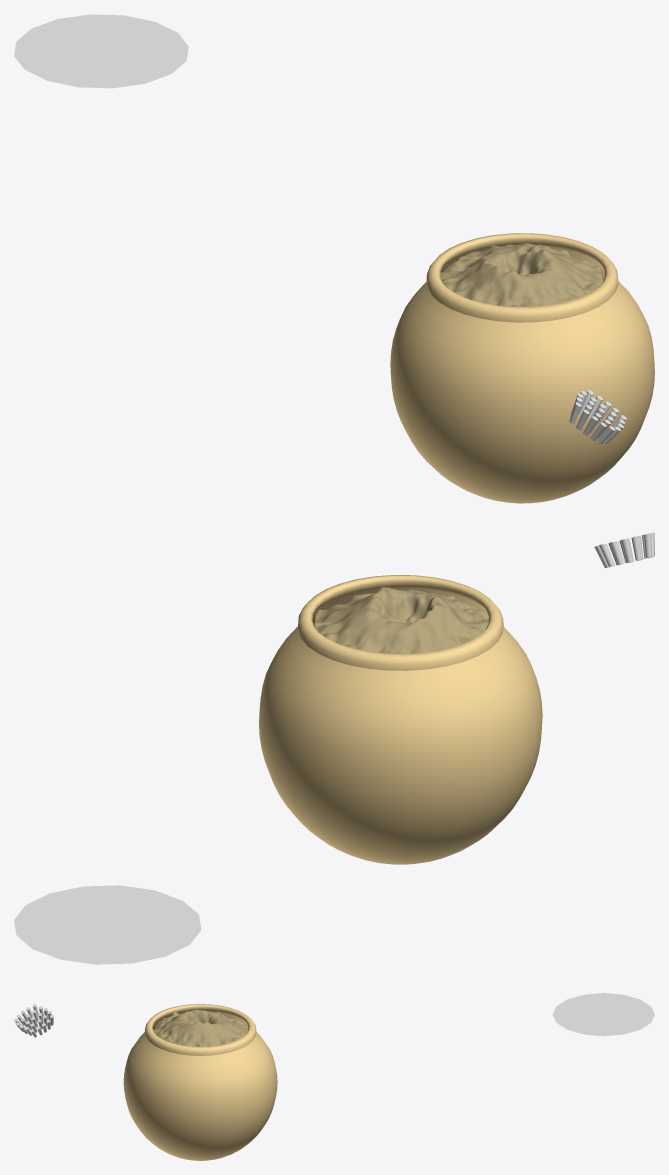
The model's file is Vaso 4 (semente).fbx.
3 views of the same model, one above another, from view 1: azimuth 30°, elevation 25°; view 2: azimuth 150°, elevation 25°; view 3: azimuth 270°, elevation 25° (orthographic). The views are drawn at different scales.
Visible parts, largest first — view 1: Sphere, Circle, Terra.002, buracos.001; view 2: Sphere, Circle, Terra.002, buracos.001; view 3: Sphere, Circle, Terra.002, buracos.001.
Boxes of the visible parts, x1,y1,x2,y2 form: Sphere: (390, 233, 654, 503); Circle: (14, 14, 188, 88); Terra.002: (440, 243, 603, 306); buracos.001: (569, 390, 626, 444); Sphere: (259, 575, 542, 864); Circle: (14, 885, 201, 964); Terra.002: (315, 587, 488, 654); buracos.001: (594, 532, 654, 567); Sphere: (123, 1004, 277, 1160); Circle: (552, 993, 654, 1036); Terra.002: (153, 1009, 248, 1046); buracos.001: (14, 1004, 53, 1037).
Bounding box in the file's own units: 447 × 384 × 1612.
